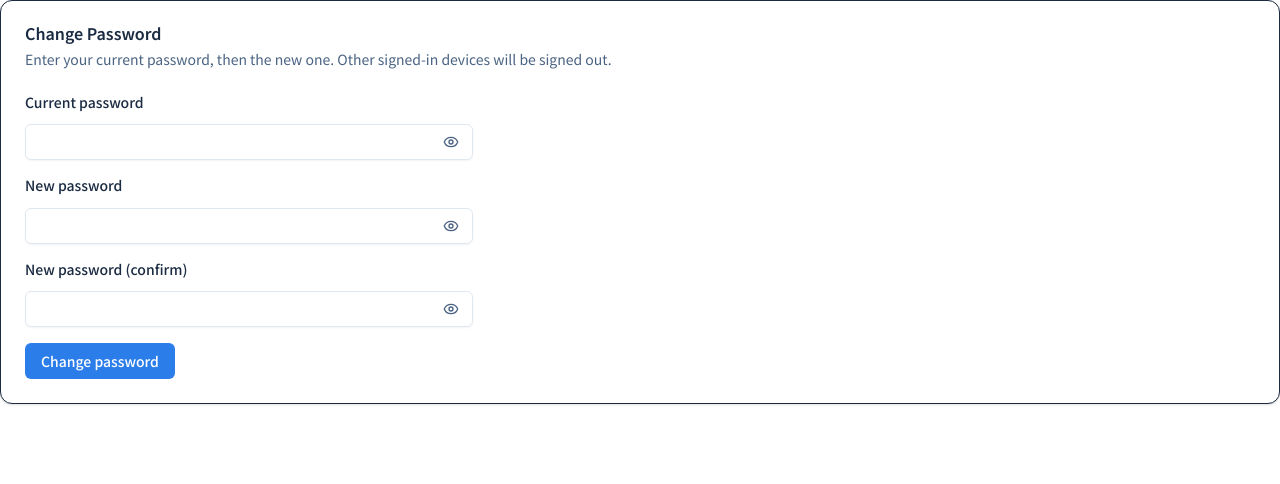
Test case: PasswordChangeCard › announces success as a polite status, not an alert
Type "the-old-passphrase" into the password field labelled "Current password". click: coordinates (231, 142)
box: [26,124,435,160]
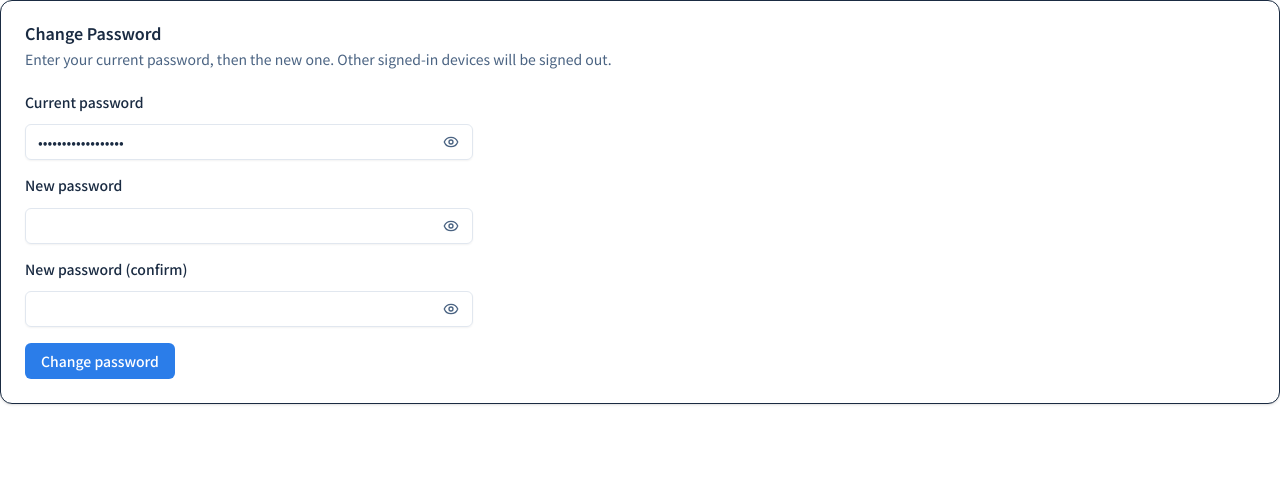
Type "harbor-lantern-quiet-42" into the password field labelled "New password". click: coordinates (231, 226)
box: [26,208,435,244]
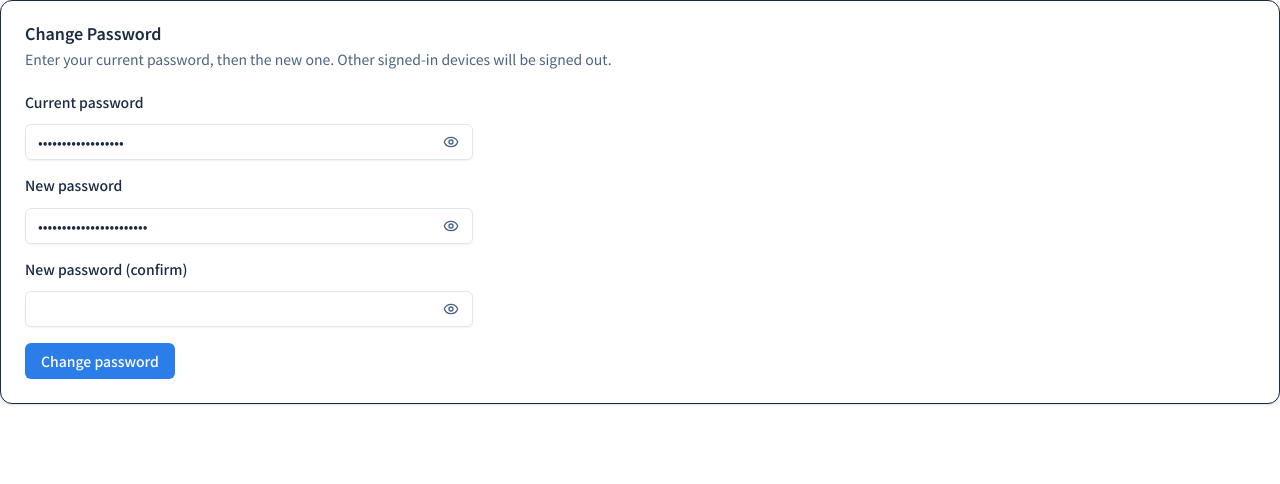
Type "harbor-lantern-quiet-42" into the password field labelled "New password (confirm)". click: coordinates (231, 309)
box: [26,291,435,327]
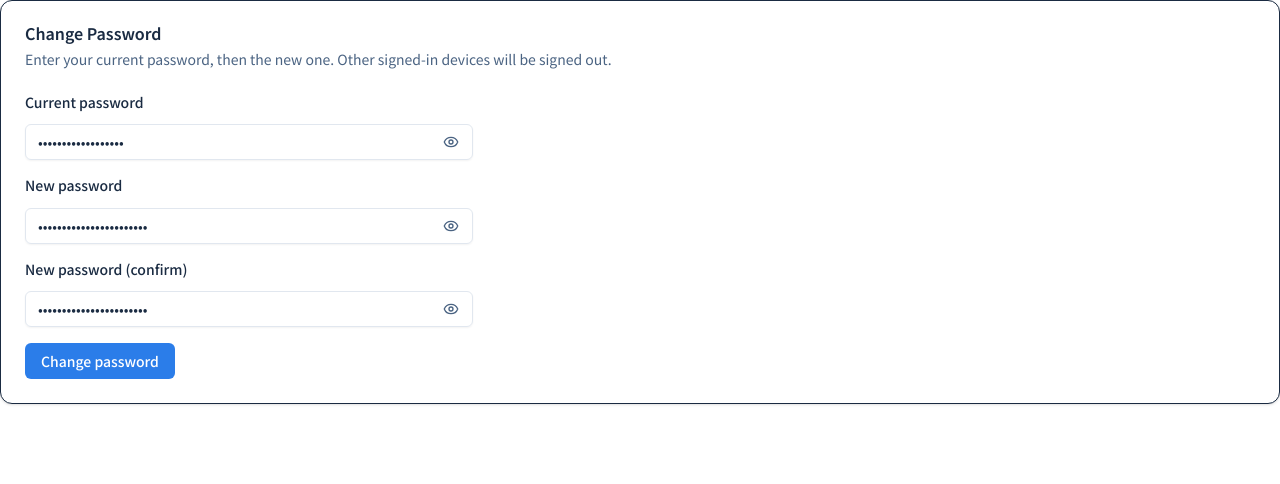
Click the button "Change password". click: coordinates (100, 361)
box: [25,343,175,379]
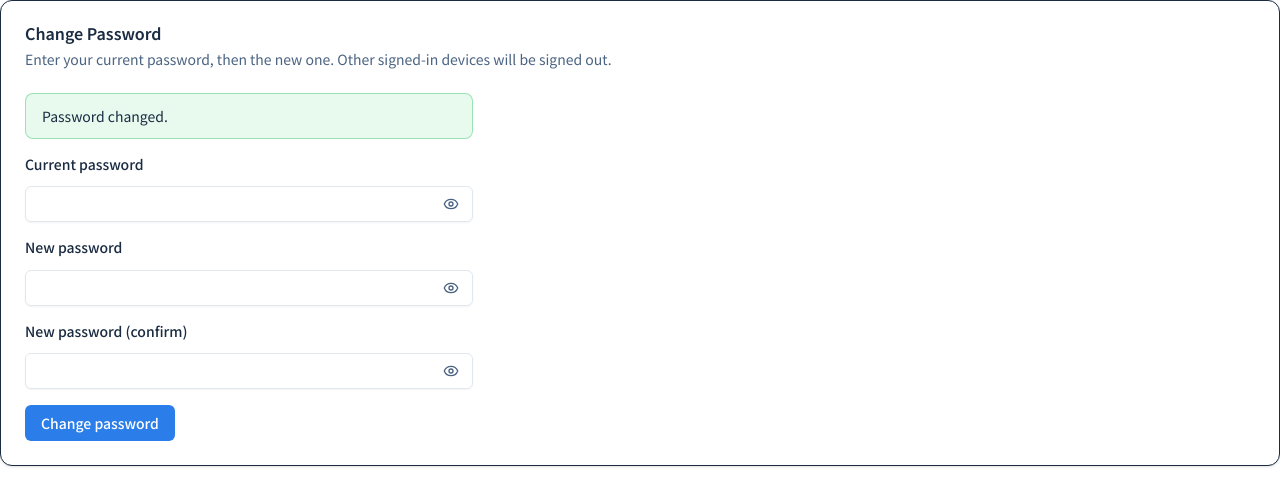
Expected: the message reads "Password changed.", [42,106,168,126]
